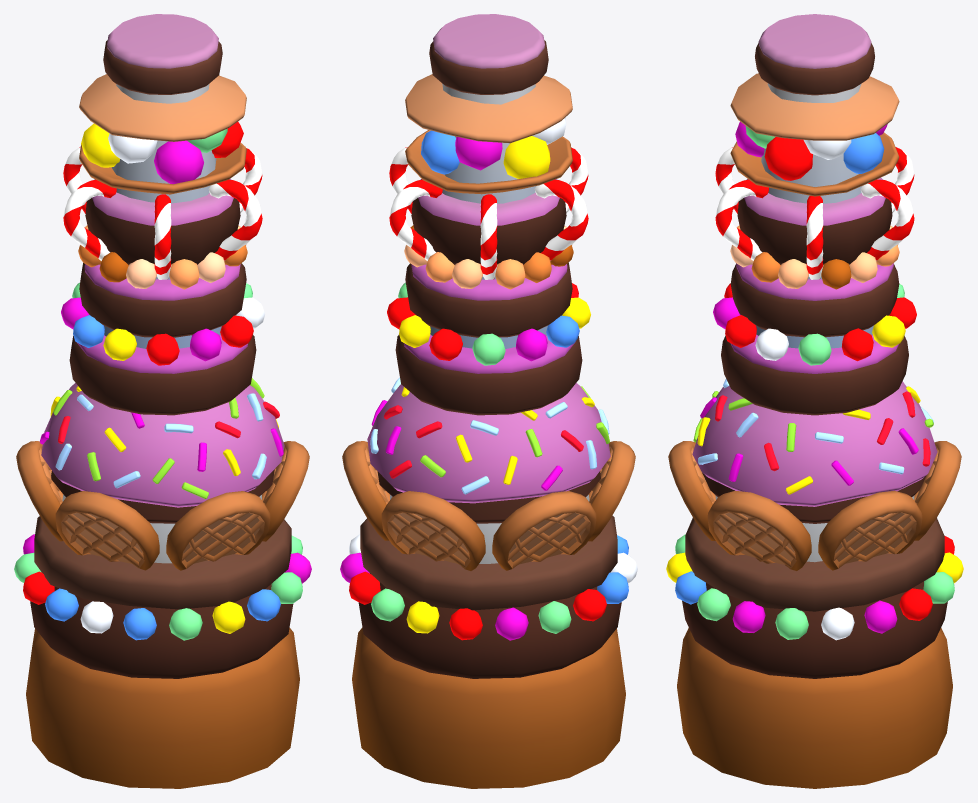
Rendered from CandyTower_01.glb.
The picture shows the model from 3 angles, left to right: view 1: azimuth 30°, elevation 25°; view 2: azimuth 150°, elevation 25°; view 3: azimuth 270°, elevation 25°; orthographic projection.
Visible parts, largest first — view 1: CandyTower_01; view 2: CandyTower_01; view 3: CandyTower_01.
Boxes of the visible parts, left/top/right/bottom form: CandyTower_01: left=14, top=14, right=311, bottom=788; CandyTower_01: left=340, top=14, right=637, bottom=788; CandyTower_01: left=666, top=14, right=963, bottom=788.
Bounding box in the file's own units: 9.89 × 25.99 × 10.05.
Materials: 2 (2 with a texture image).
